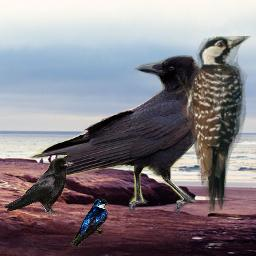Crow: (28, 55, 213, 214), (3, 157, 75, 215)
Swallow: (71, 199, 108, 247)
Woodpecker: (170, 36, 251, 221)
